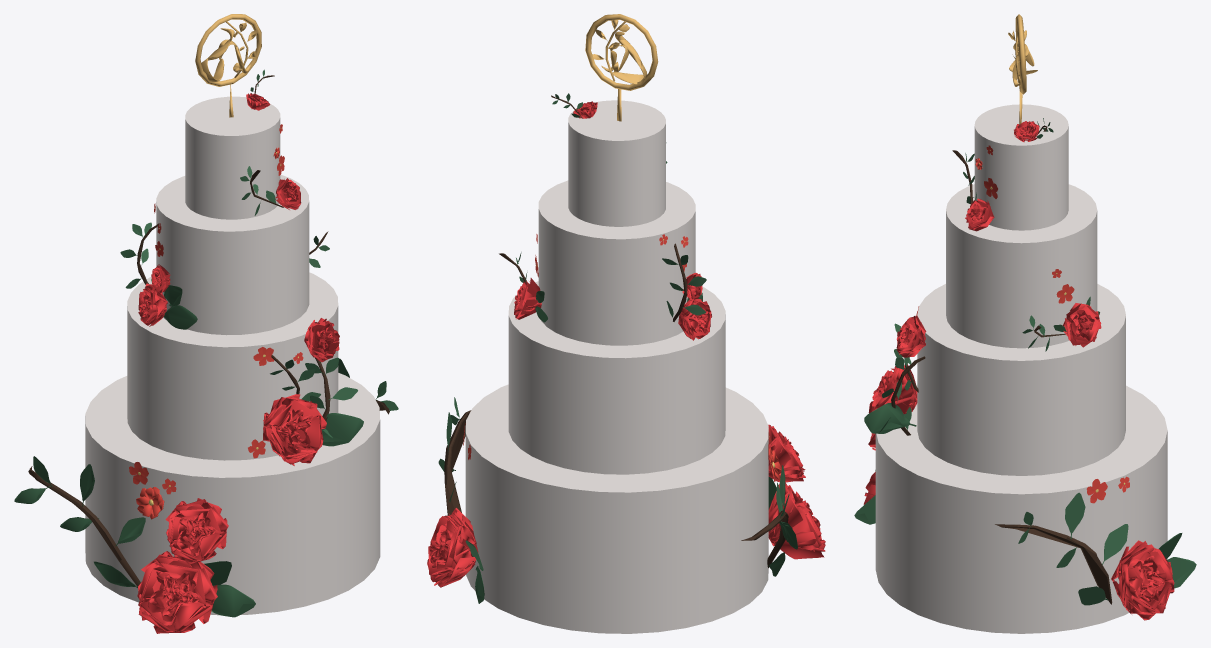
File: 4-tier-white.glb
The picture shows the model from 3 angles, left to right: view 1: azimuth 30°, elevation 25°; view 2: azimuth 150°, elevation 25°; view 3: azimuth 270°, elevation 25°; orthographic projection. The views are drawn at different scales.
Parts seen in each view (by area): view 1: Cylinder.010, Cylinder.009, Cylinder.008, Cylinder.007, grid.013, Plane.024, grid.016, grid.012, Cylinder.006, grid.015, Plane.009, Plane.022 (+7 smaller); view 2: Cylinder.010, Cylinder.009, Cylinder.008, Cylinder.007, Cylinder.006, grid.020, grid.013, Plane.008, Plane.024, grid.012, grid.017, Plane.023 (+1 smaller); view 3: Cylinder.010, Cylinder.009, Cylinder.008, Cylinder.007, grid.020, Plane.008, grid.016, grid.019, Cylinder.006, Plane.009, grid.015, grid.021 (+2 smaller).
Part boxes in pixels (left/top/right/bottom): Cylinder.010: left=85, top=373, right=380, bottom=615; Cylinder.009: left=127, top=272, right=338, bottom=460; Cylinder.008: left=156, top=174, right=309, bottom=335; Cylinder.007: left=185, top=96, right=280, bottom=219; grid.013: left=137, top=551, right=217, bottom=633; Plane.024: left=14, top=456, right=145, bottom=587; grid.016: left=263, top=394, right=326, bottom=465; grid.012: left=165, top=498, right=228, bottom=564; Cylinder.006: left=195, top=14, right=261, bottom=117; grid.015: left=304, top=318, right=339, bottom=362; Plane.009: left=322, top=413, right=363, bottom=446; Plane.022: left=211, top=584, right=255, bottom=617; Cylinder.010: left=465, top=384, right=768, bottom=633; Cylinder.009: left=508, top=281, right=725, bottom=474; Cylinder.008: left=538, top=180, right=695, bottom=345; Cylinder.007: left=568, top=100, right=665, bottom=226; Cylinder.006: left=585, top=14, right=658, bottom=121; grid.020: left=427, top=508, right=478, bottom=587; grid.013: left=768, top=483, right=825, bottom=559; Plane.008: left=438, top=397, right=471, bottom=515; Plane.024: left=741, top=465, right=797, bottom=576; grid.012: left=768, top=424, right=805, bottom=482; grid.017: left=678, top=299, right=711, bottom=340; Plane.023: left=662, top=243, right=706, bottom=321; Cylinder.010: left=875, top=385, right=1167, bottom=633; Cylinder.009: left=917, top=284, right=1125, bottom=475; Cylinder.008: left=946, top=184, right=1097, bottom=348; Cylinder.007: left=974, top=104, right=1068, bottom=230; grid.020: left=1111, top=540, right=1174, bottom=620; Plane.008: left=995, top=492, right=1128, bottom=605; grid.016: left=868, top=364, right=917, bottom=414; grid.019: left=1062, top=303, right=1101, bottom=347; Cylinder.006: left=1008, top=14, right=1037, bottom=124; Plane.009: left=864, top=403, right=916, bottom=433; grid.015: left=896, top=316, right=926, bottom=357; grid.021: left=965, top=198, right=994, bottom=231.
Bounding box in the file's own units: 6.25 × 9.02 × 5.05.
